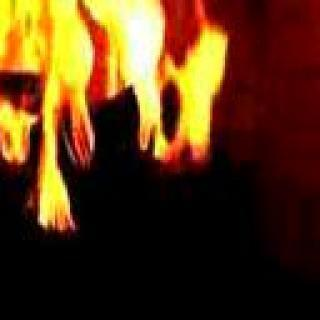fire: (0, 0, 211, 126)
